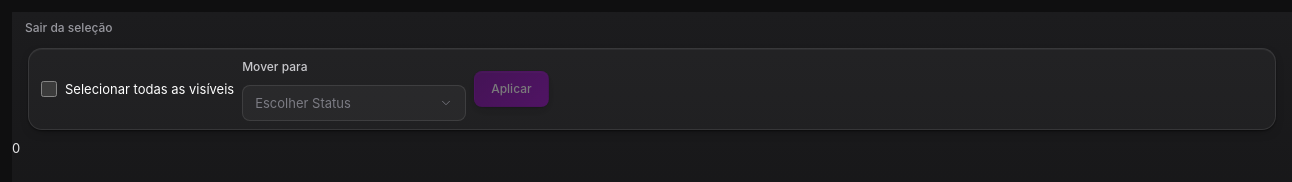
SelecaoEmLote › com a seleção ligada e duas Tarefas marcadas desenha a barra do lote
Expected: the element with test id "selecao-em-lote" is shown, [12, 44, 1291, 138]
Marcar todas as visíveis (as duas Tarefas da Lista).
What coordinates should you click on to do the following:
click the checkbox
I would click on:
 (49, 89)
Its box is [41, 81, 57, 97].
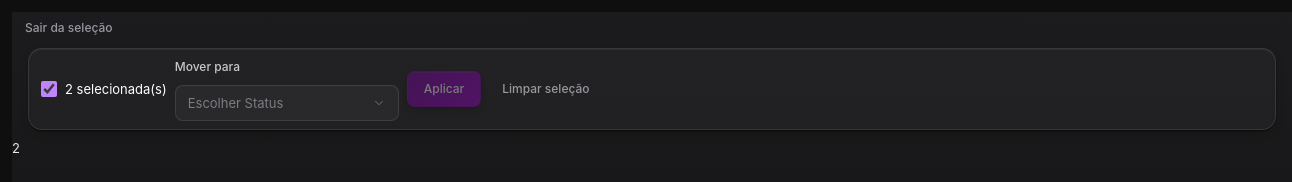
Expected: the text "2 selecionada(s)" is shown, [41, 79, 167, 99]
Expected: the text with test id "marcadas" reads "2", [12, 140, 20, 156]
Expected: the button "Limpar seleção" is shown, [489, 71, 603, 107]
